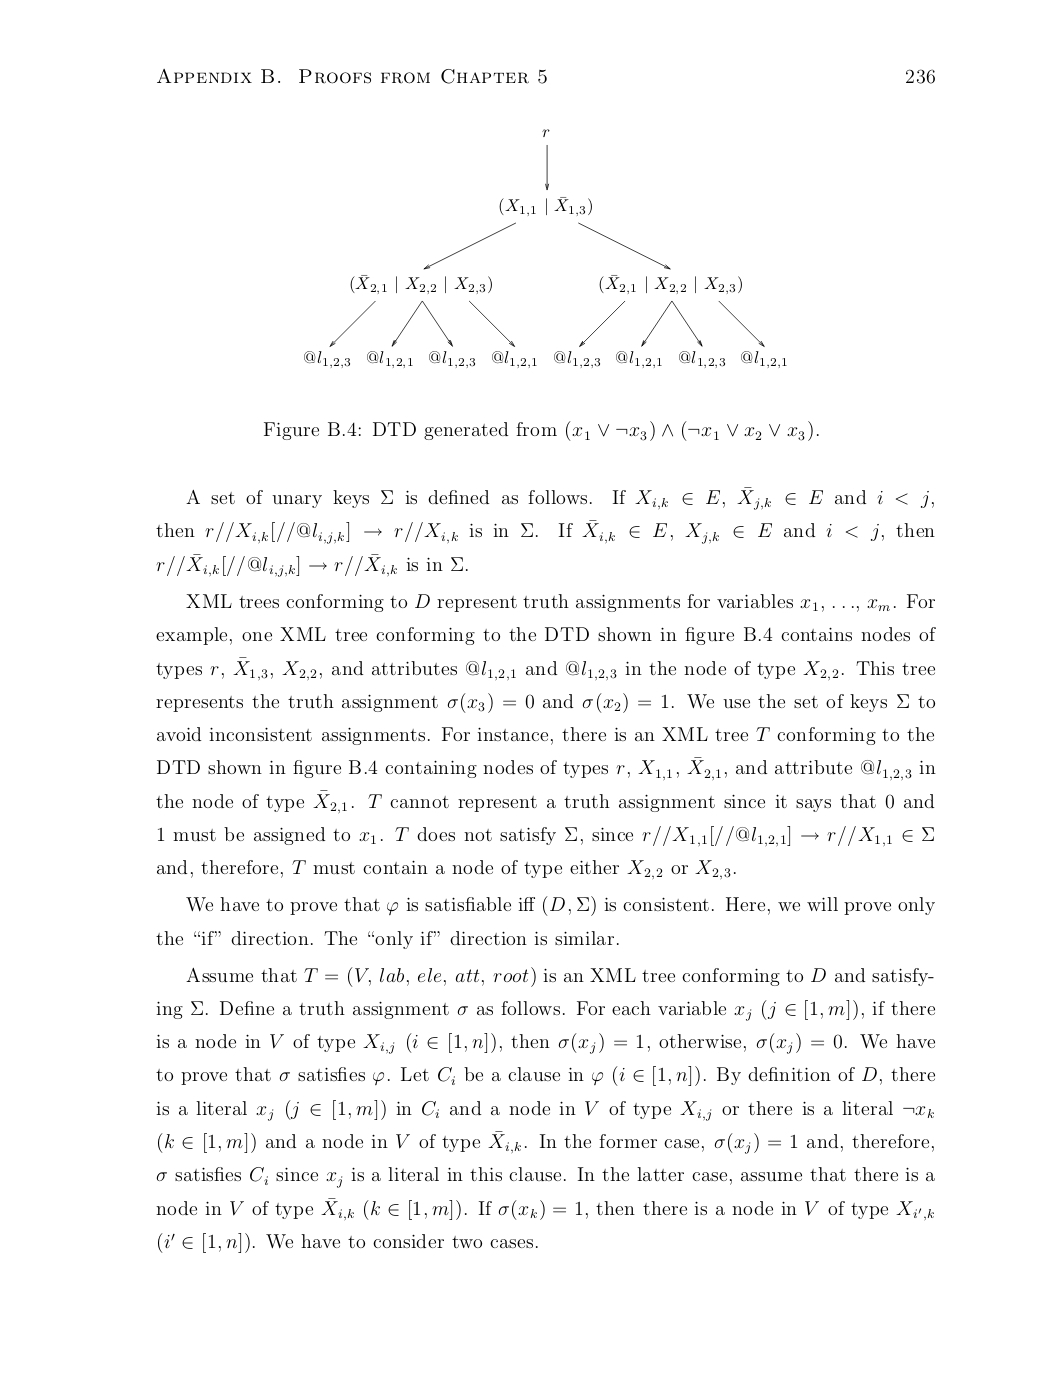figure: (304, 129, 786, 368)
